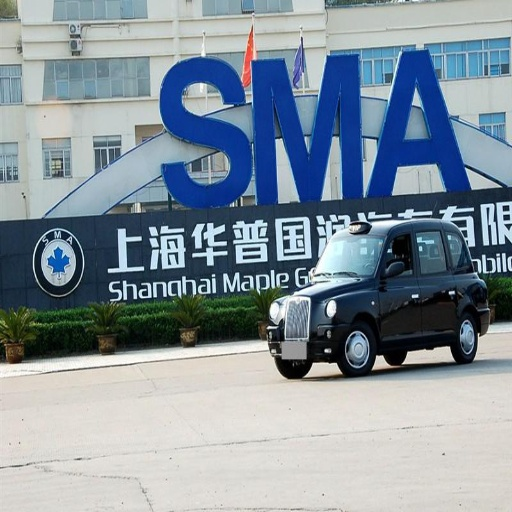front_glass: (326, 236, 377, 275)
trunk: (50, 205, 158, 282)
